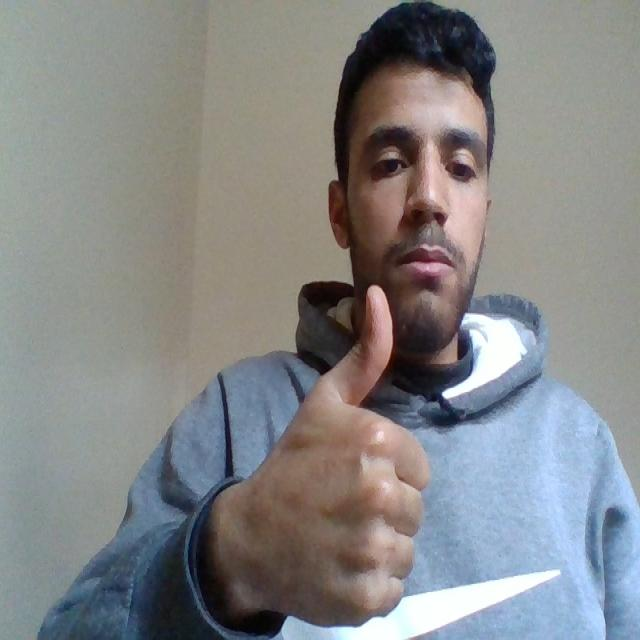Yes: (187, 280, 432, 624)
